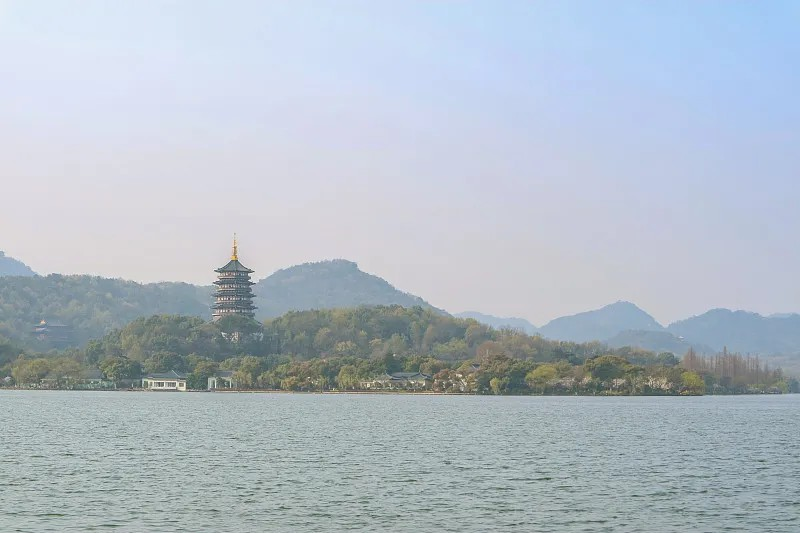Leifeng: (211, 230, 258, 323)
